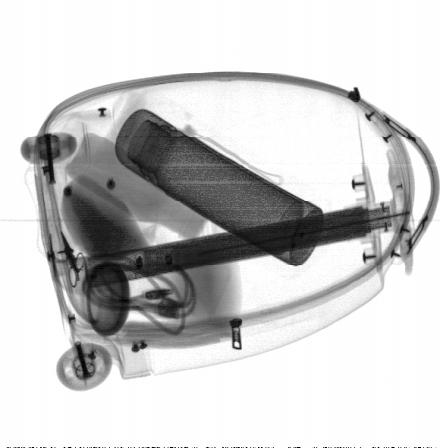Scissors: (59, 229, 85, 289)
